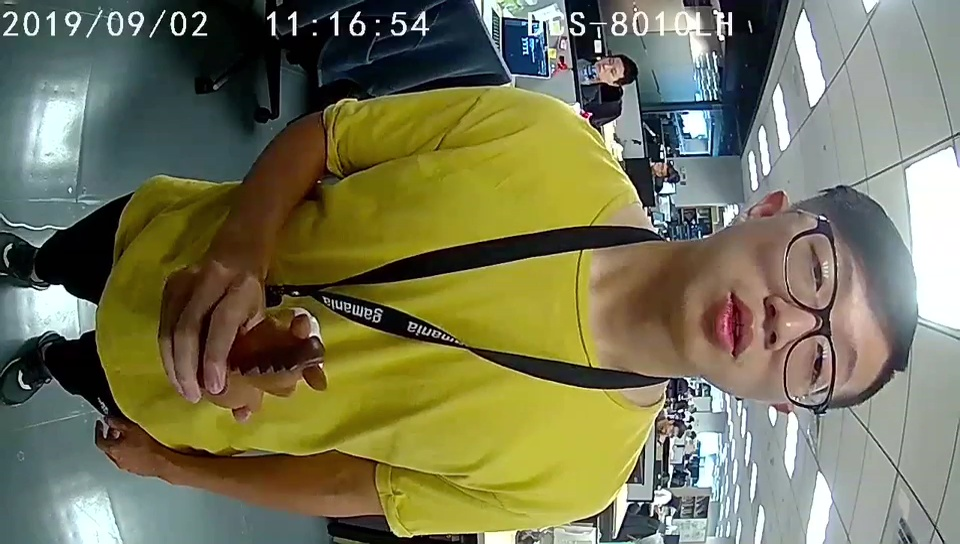horse: (237, 307, 329, 409)
